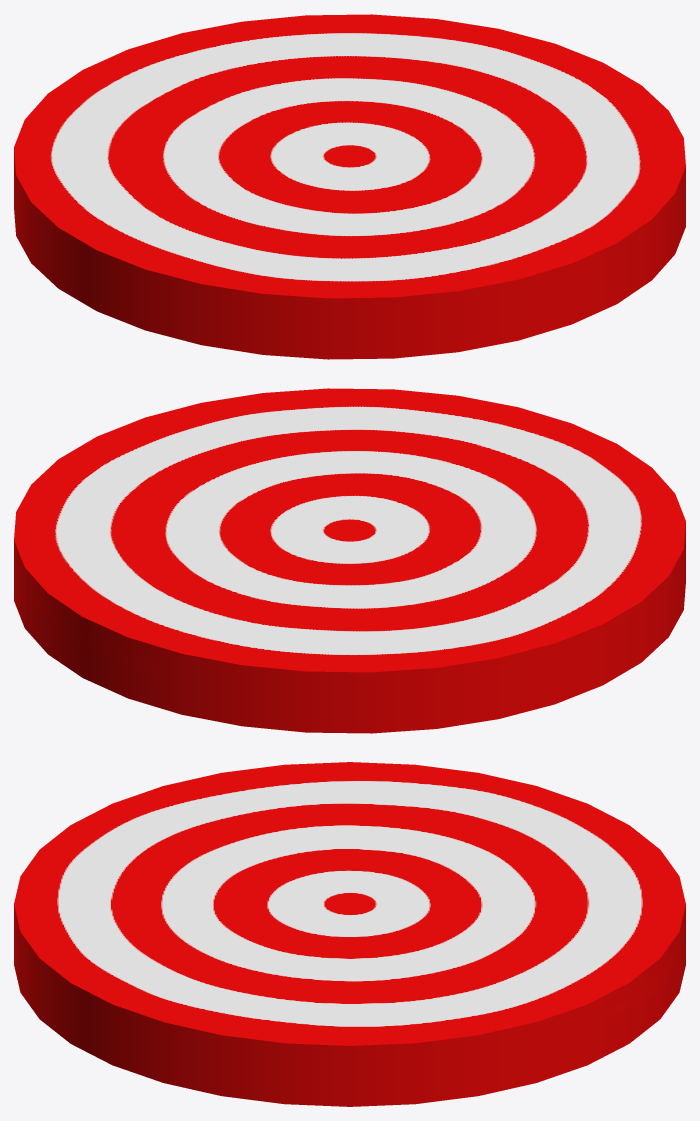
Rendered from target.fbx.
3 renders of one model, top to bottom at view 1: azimuth 30°, elevation 25°; view 2: azimuth 150°, elevation 25°; view 3: azimuth 270°, elevation 25°, orthographic.
Visible parts, largest first — view 1: Cylinder; view 2: Cylinder; view 3: Cylinder.
Part boxes in pixels (x1,y1,x2,y2): Cylinder: [14, 14, 685, 359]; Cylinder: [14, 388, 685, 733]; Cylinder: [14, 762, 685, 1106].
Size of the model in its own units: 200 by 20 by 200.
